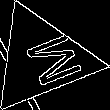M_SW: (7, 28, 76, 90)
